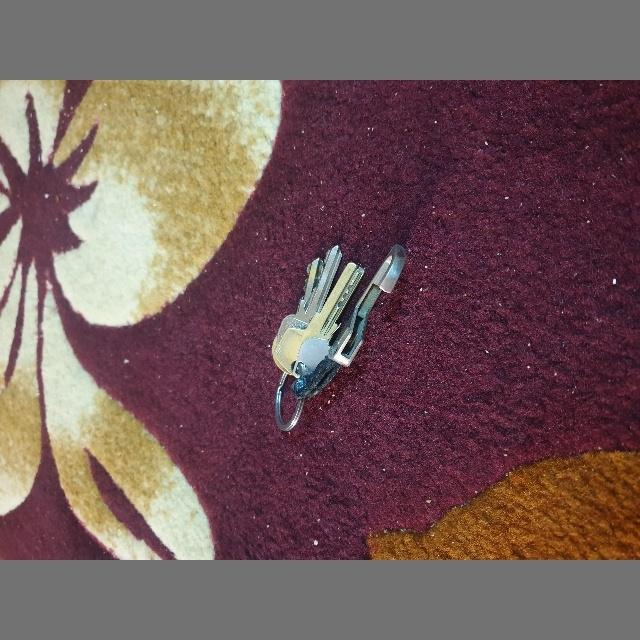Keys: (156, 276, 432, 388)
